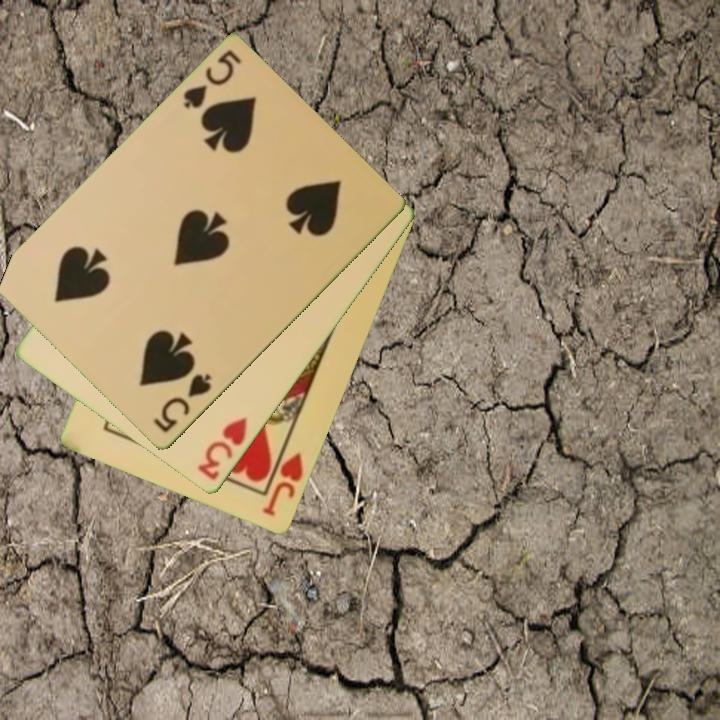3h: (194, 414, 251, 484)
5s: (150, 370, 215, 436), (179, 47, 245, 112)
Jh: (258, 437, 307, 520)
